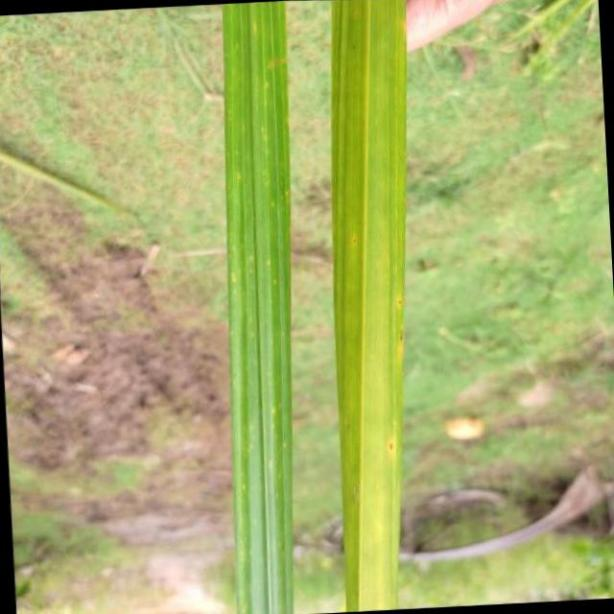nitrogen: (218, 0, 292, 614), (336, 0, 408, 614)
